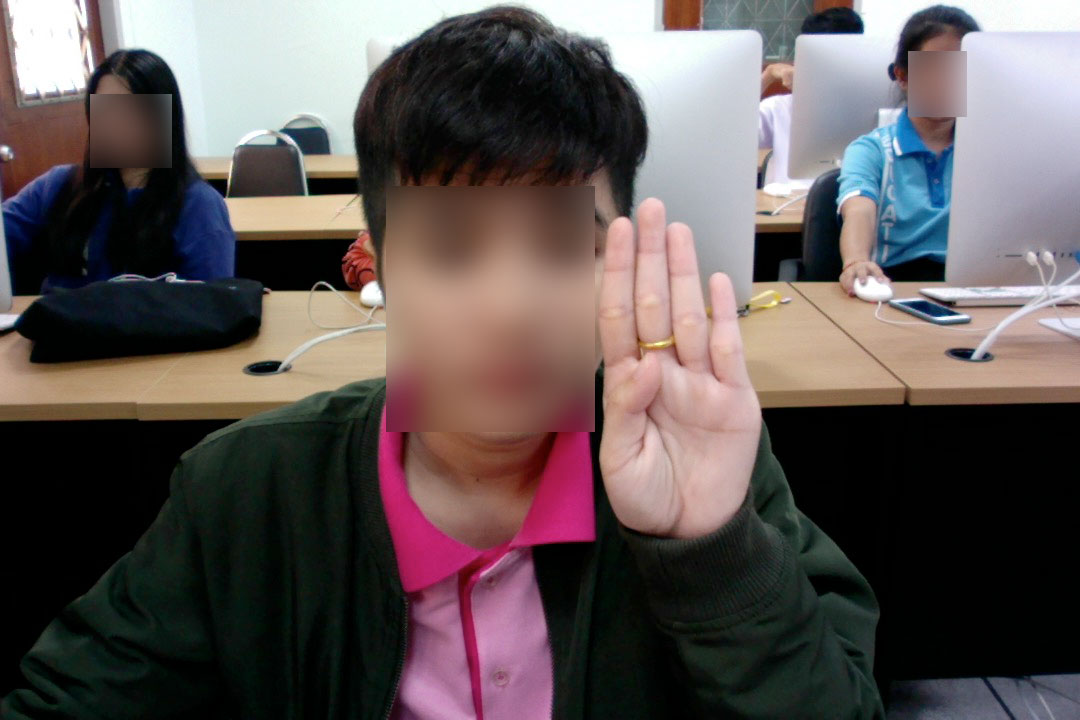bor: (586, 184, 766, 575)
